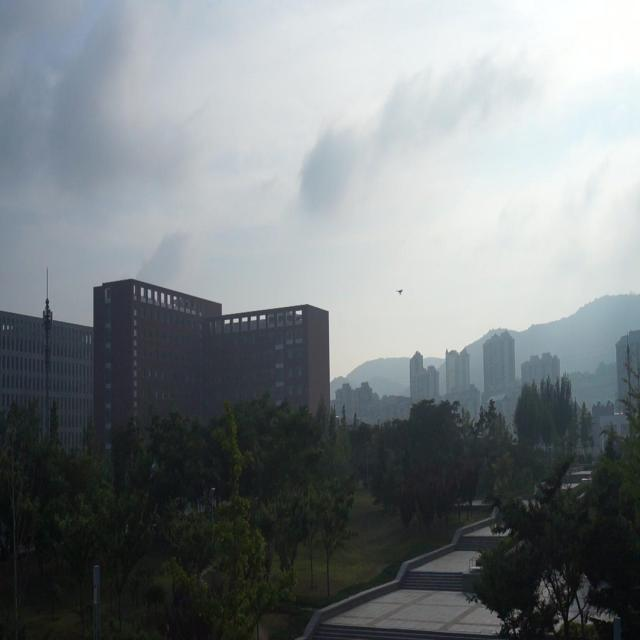drone: (396, 282, 404, 299)
